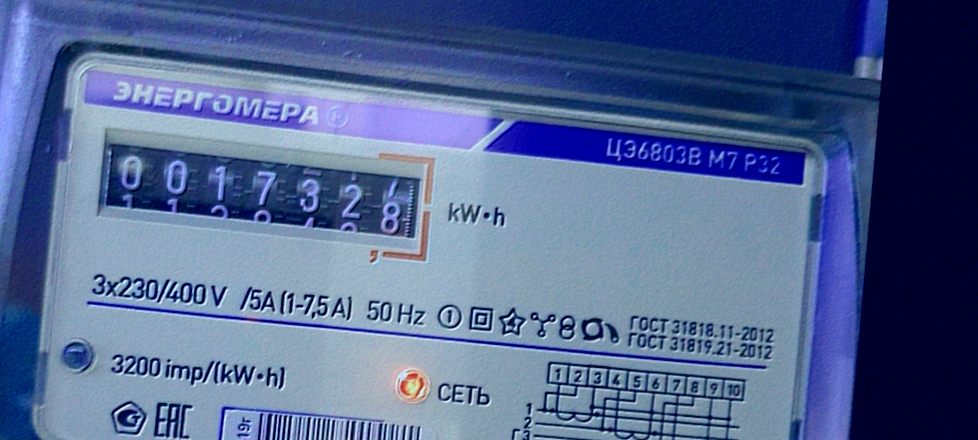0: (118, 153, 147, 194), (165, 158, 191, 198)
1: (209, 163, 231, 204)
2: (340, 183, 365, 222)
3: (299, 178, 324, 215)
7: (254, 169, 279, 210)
8: (380, 199, 402, 236)
screen: (85, 125, 447, 271)
